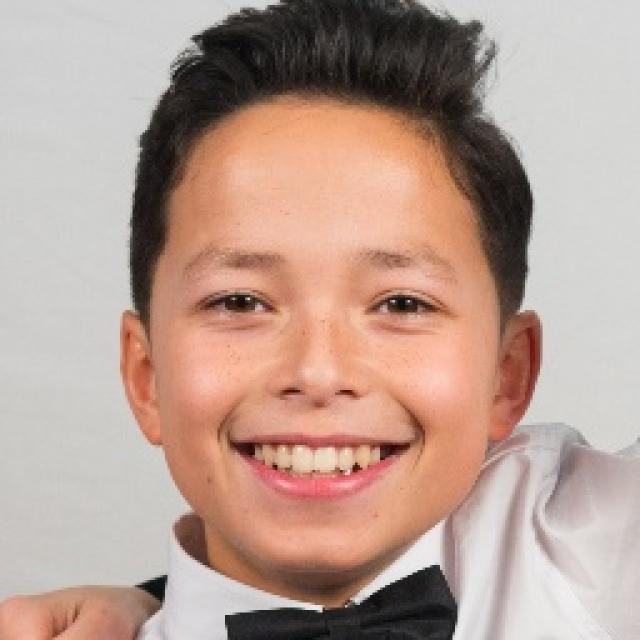earlobe: (131, 399, 166, 447), (488, 394, 520, 443)
eye: (364, 289, 444, 326), (204, 288, 279, 323)
nose: (268, 373, 372, 425)
wholeear: (488, 308, 542, 443), (116, 308, 166, 447)
